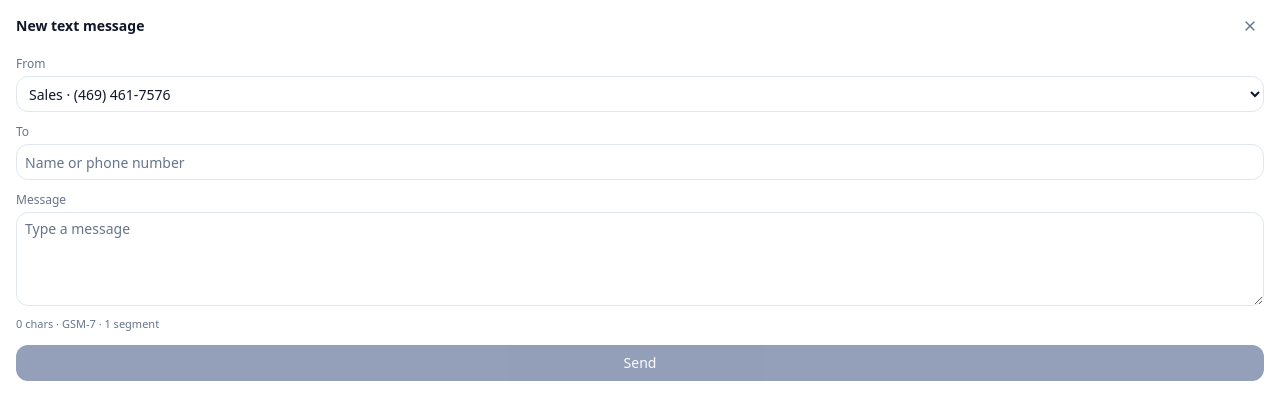
Test: NewConversationPanel › renders the From options and keeps Send disabled until To and body are filled
The image size is (1280, 398).
Expected: the heading "New text message" is shown, [16,16,144,36]
Expected: the dropdown labelled "From" shows "Sales · (469) 461-7576", [16,76,1264,112]
In the dropdown labelled "To": (640, 162) [16,144,1264,180], type "9725550100"
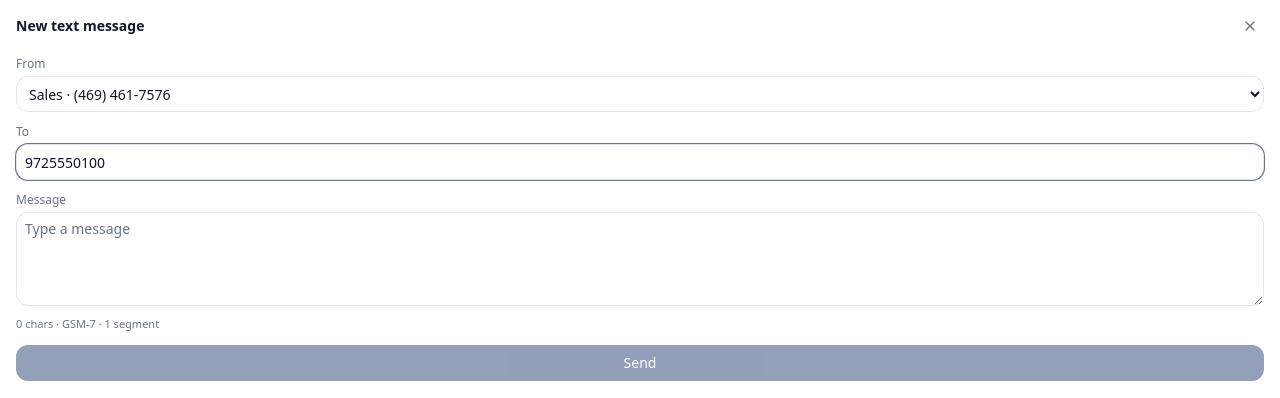
Expected: the button "Send" is disabled, [16,344,1264,380]
In the text box labelled "Message": (640, 259) [16,212,1264,306], type "hello there"
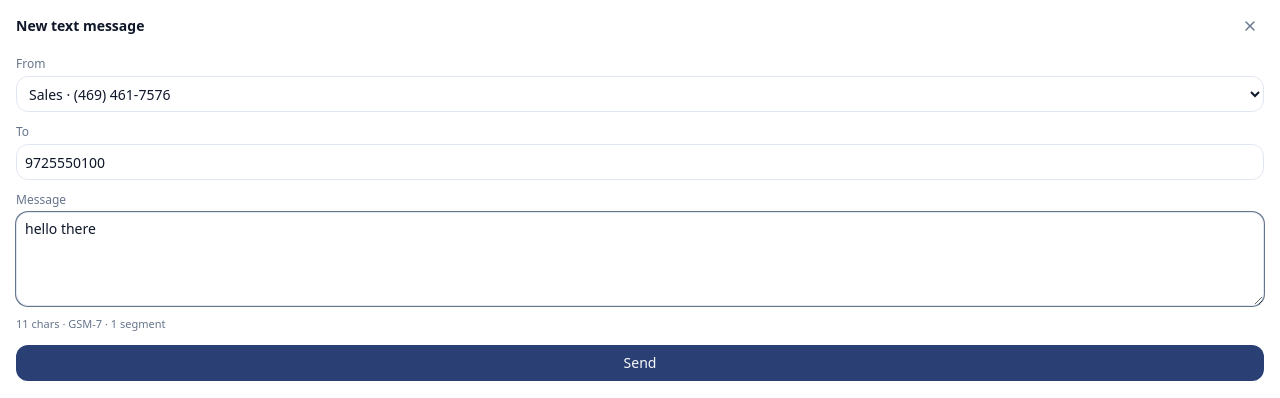
Expected: the button "Send" is enabled, [16,344,1264,380]
